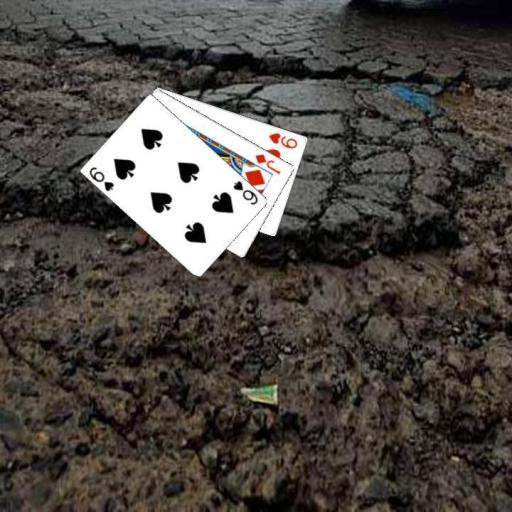card-corner: (230, 178, 260, 206), (86, 164, 116, 192), (252, 150, 282, 176), (266, 129, 299, 150)
